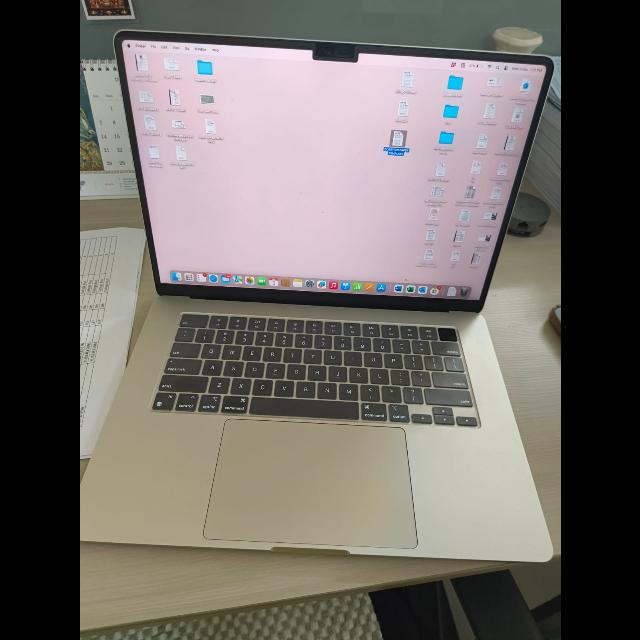laptop: (81, 21, 553, 583)
